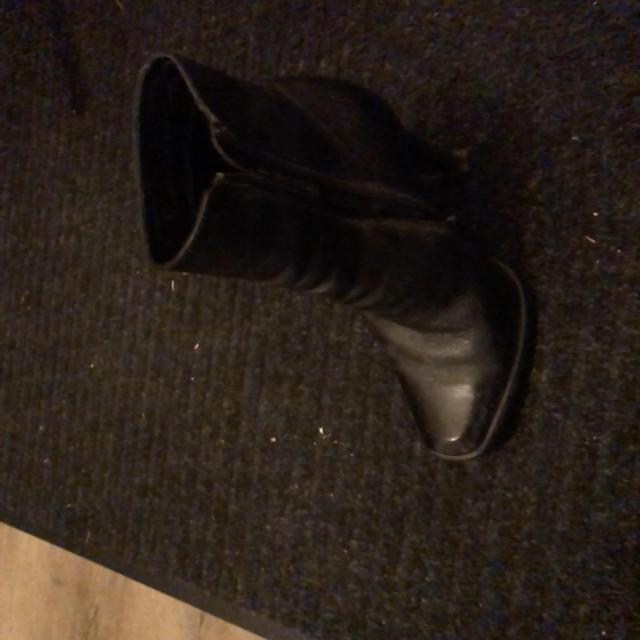shoe: (126, 58, 534, 463)
